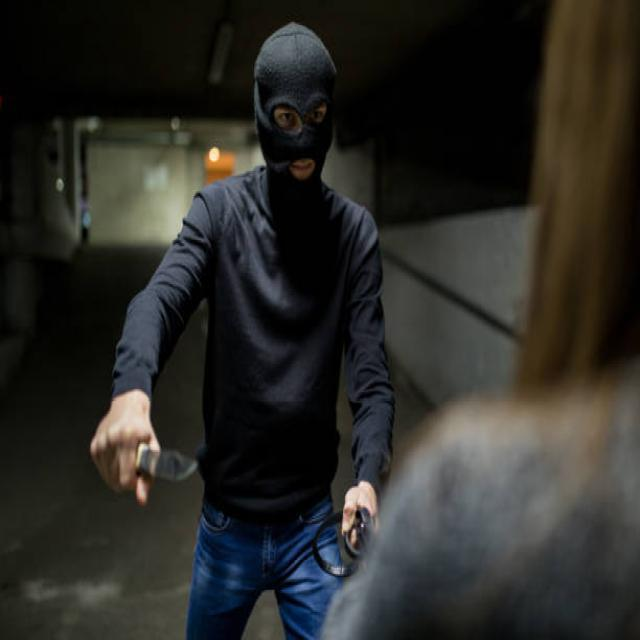faca: (69, 386, 204, 513)
